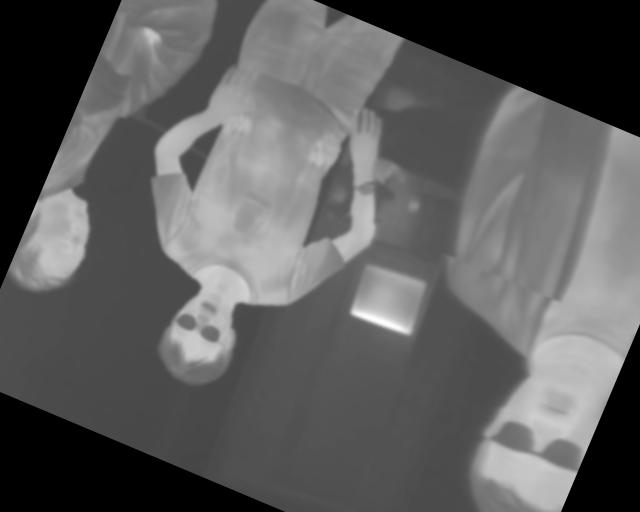face: (444, 345, 613, 512), (148, 278, 252, 397)
